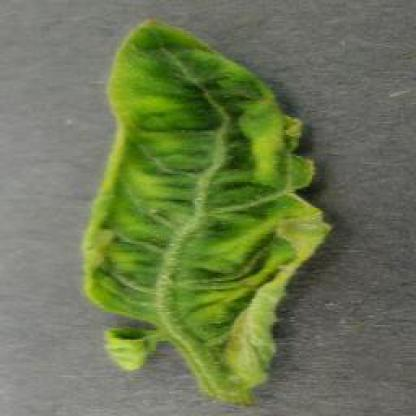bad leaf: (90, 18, 326, 395)
